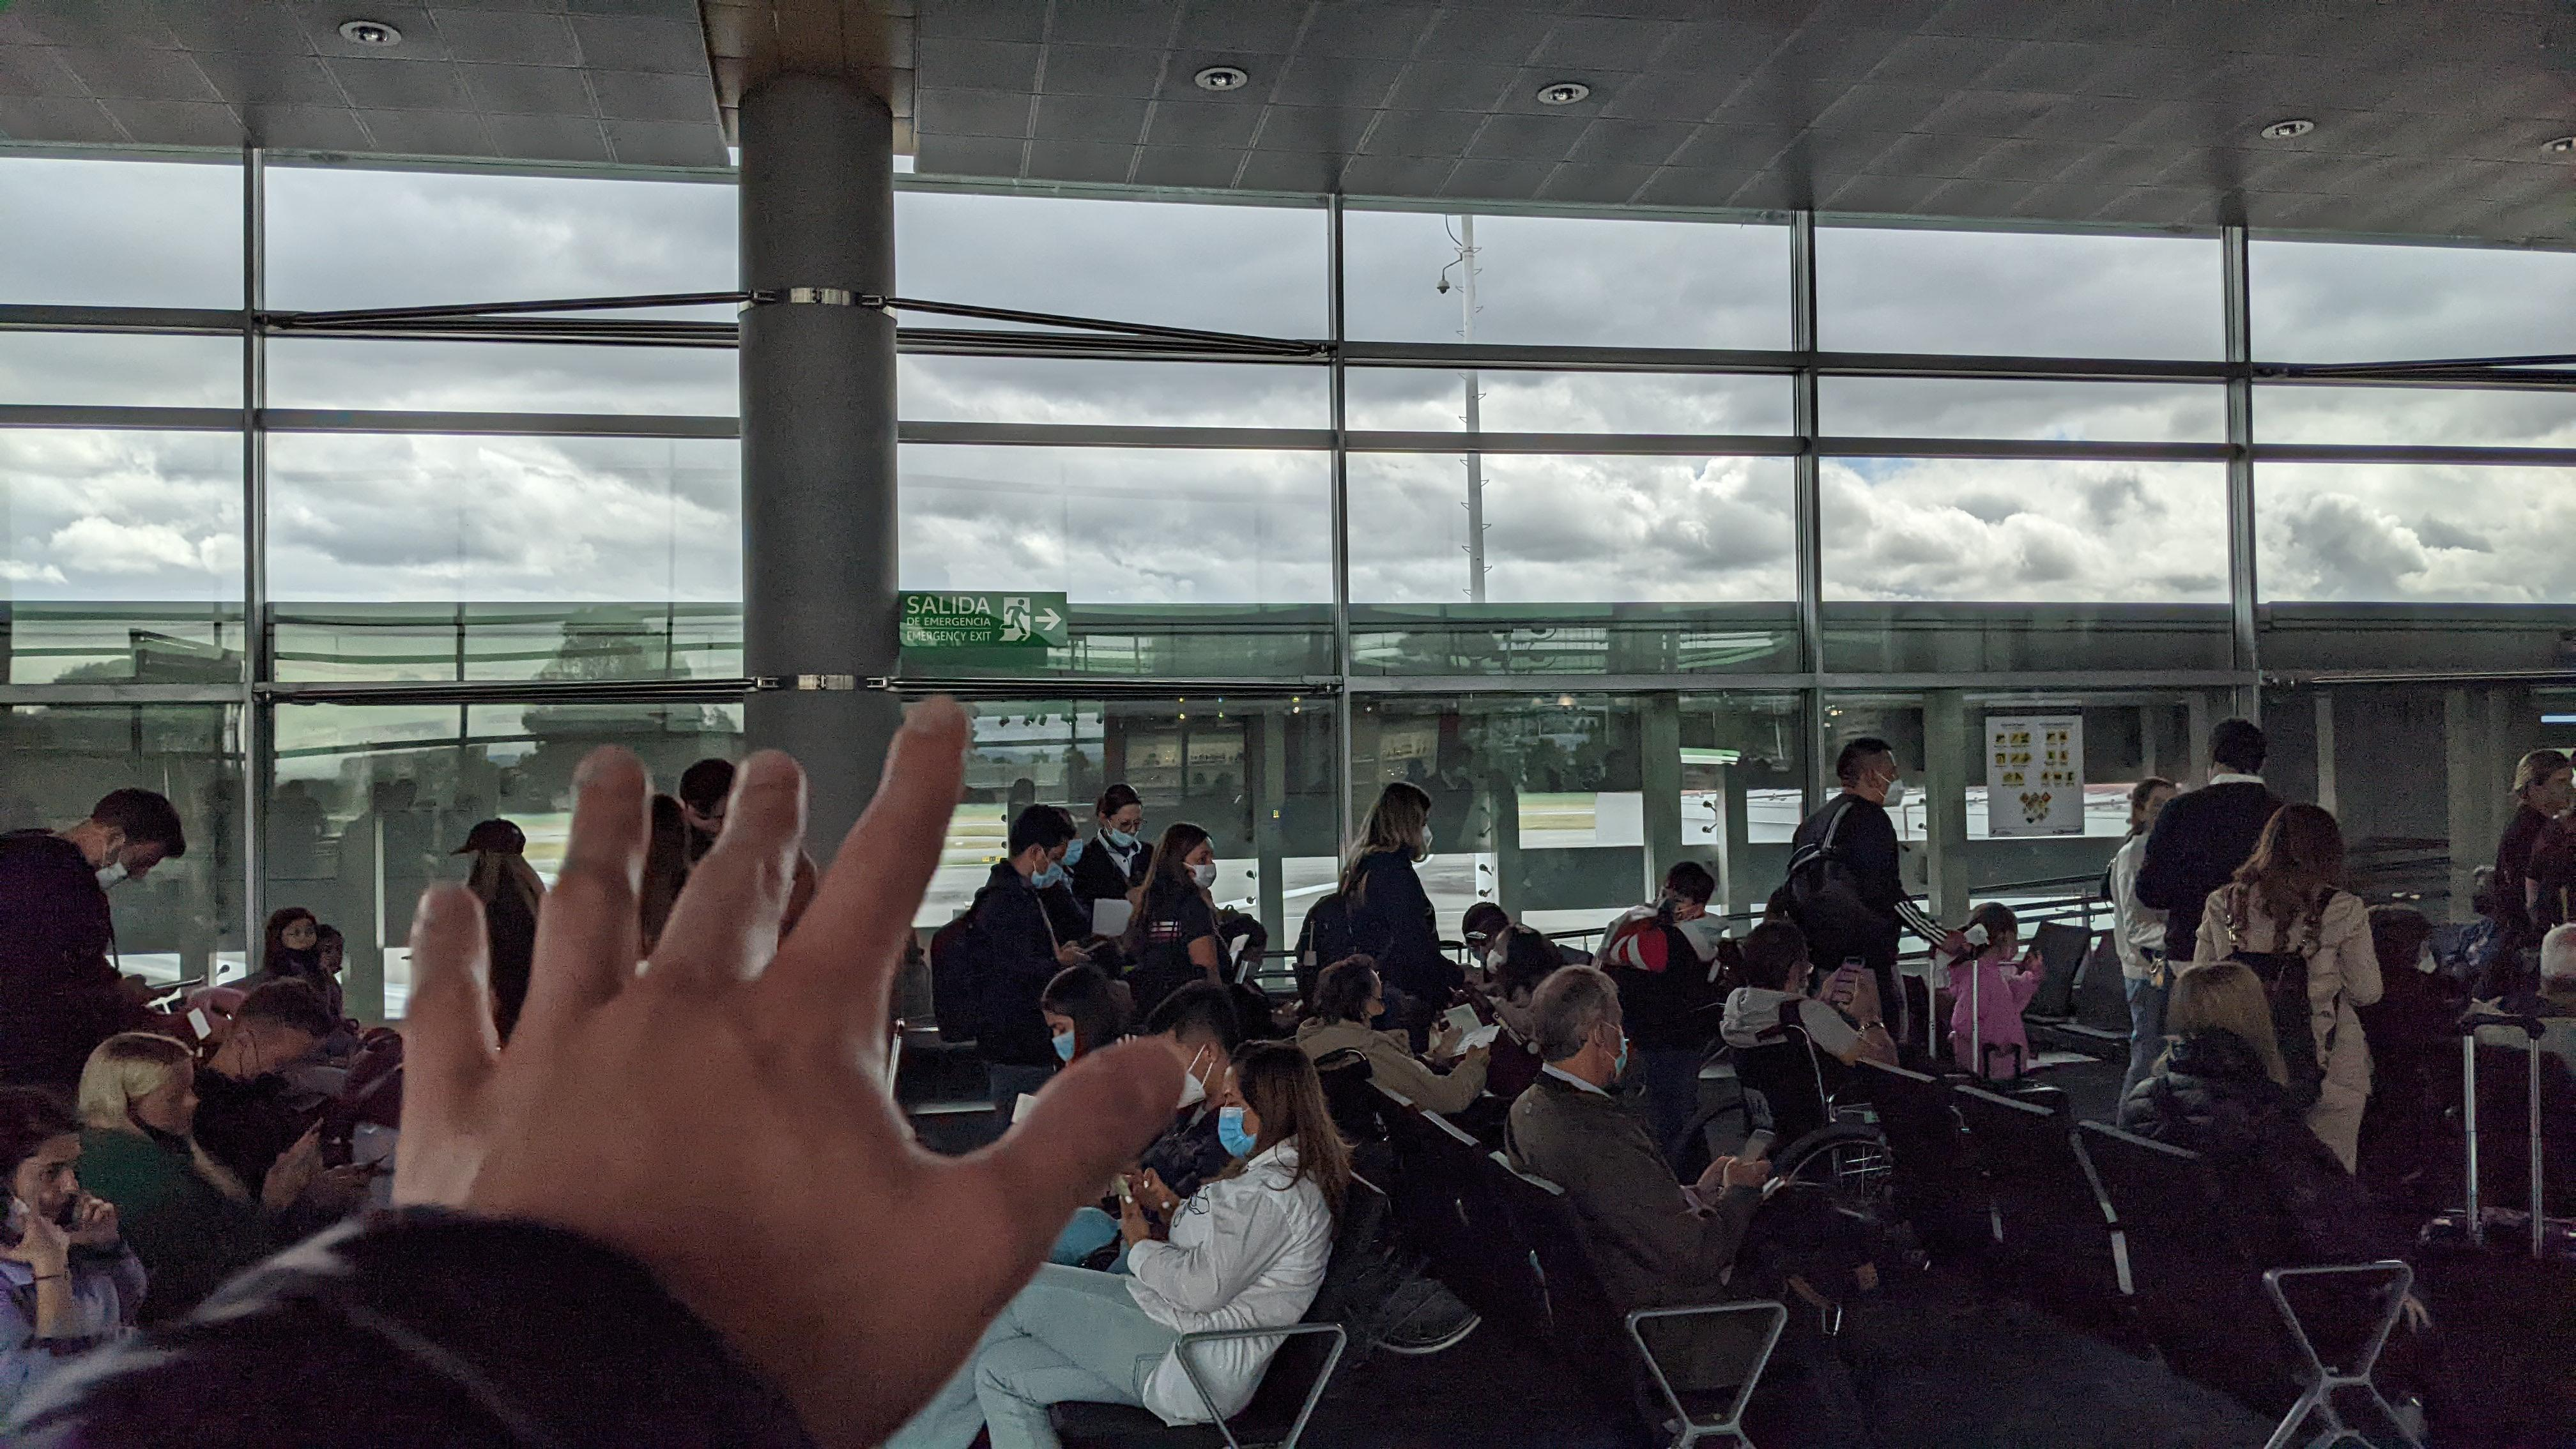emergency exit: (998, 594, 1031, 642)
emergency right arrow: (1033, 605, 1063, 633)
